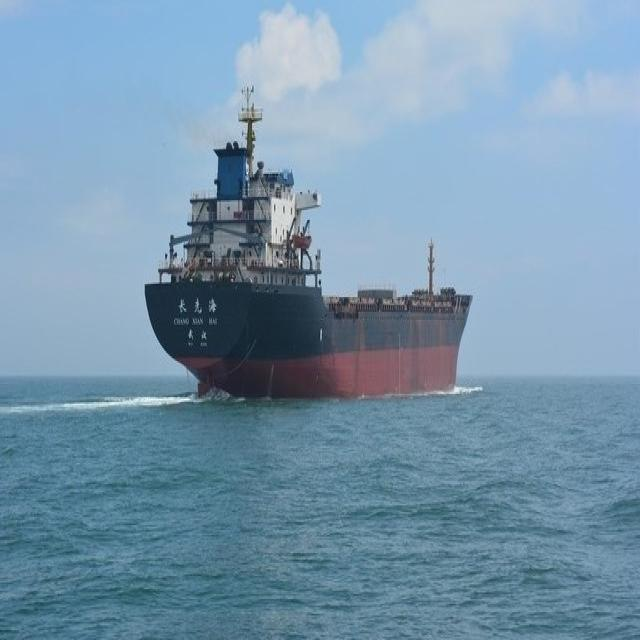cargoship: (148, 90, 468, 404)
